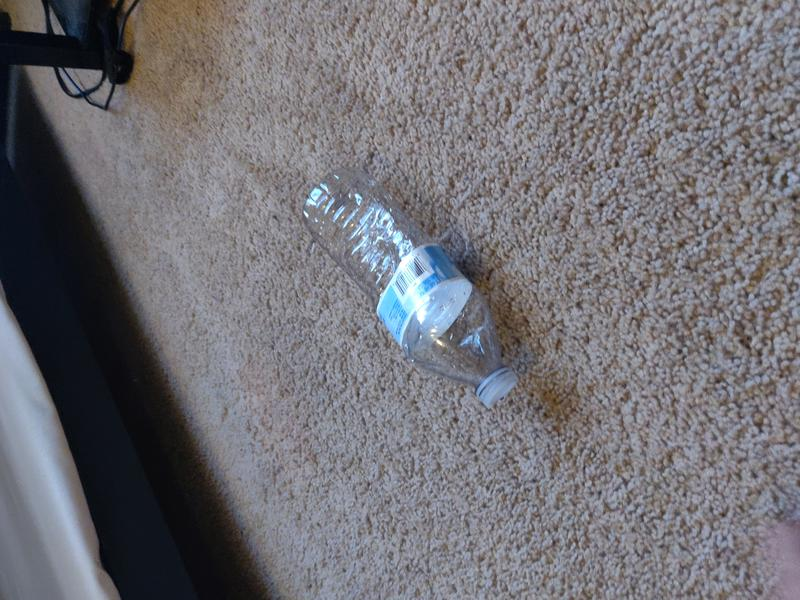bottle: (301, 166, 522, 414)
